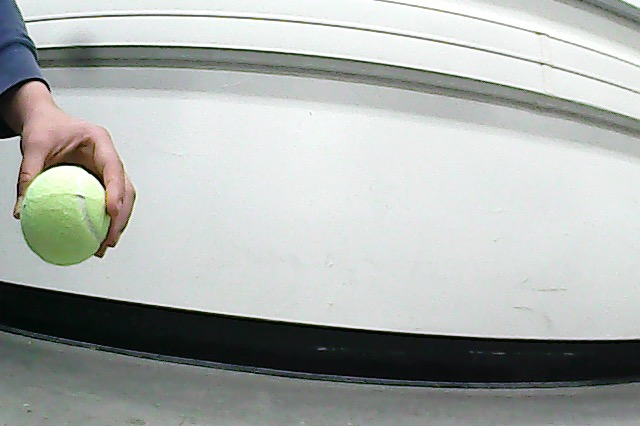ball: (21, 165, 111, 267)
